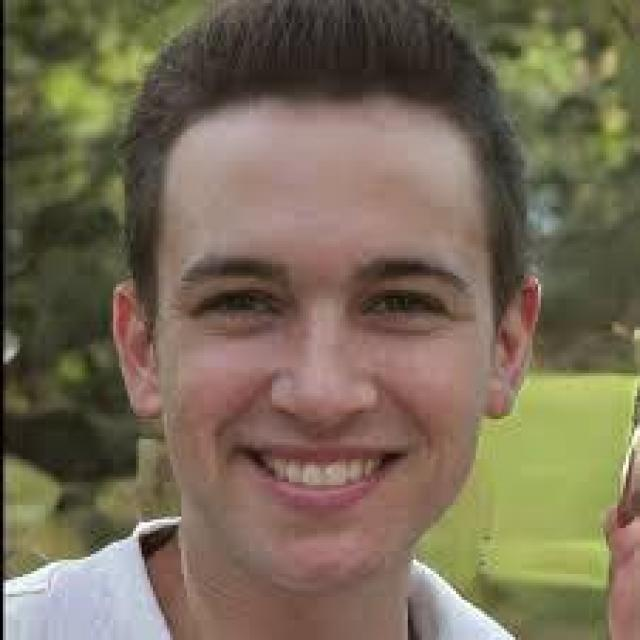person: (23, 0, 569, 637)
